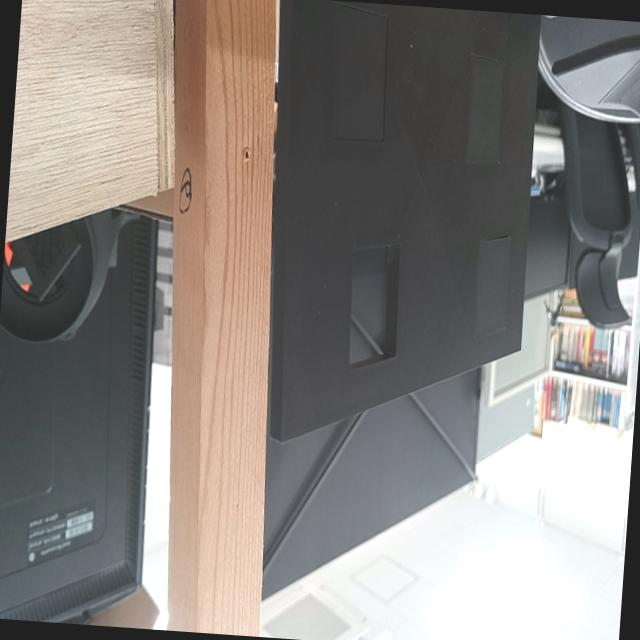Obstacle: (350, 248, 399, 368)
Wall: (282, 0, 540, 440)
